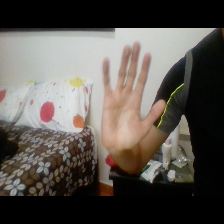left: (95, 36, 166, 157)
